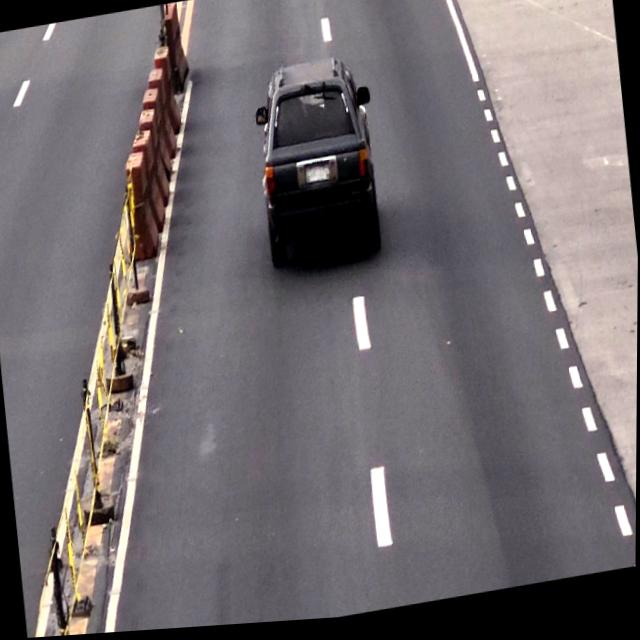Car: (254, 59, 384, 266)
